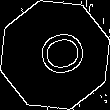O_W: (24, 27, 86, 83)
